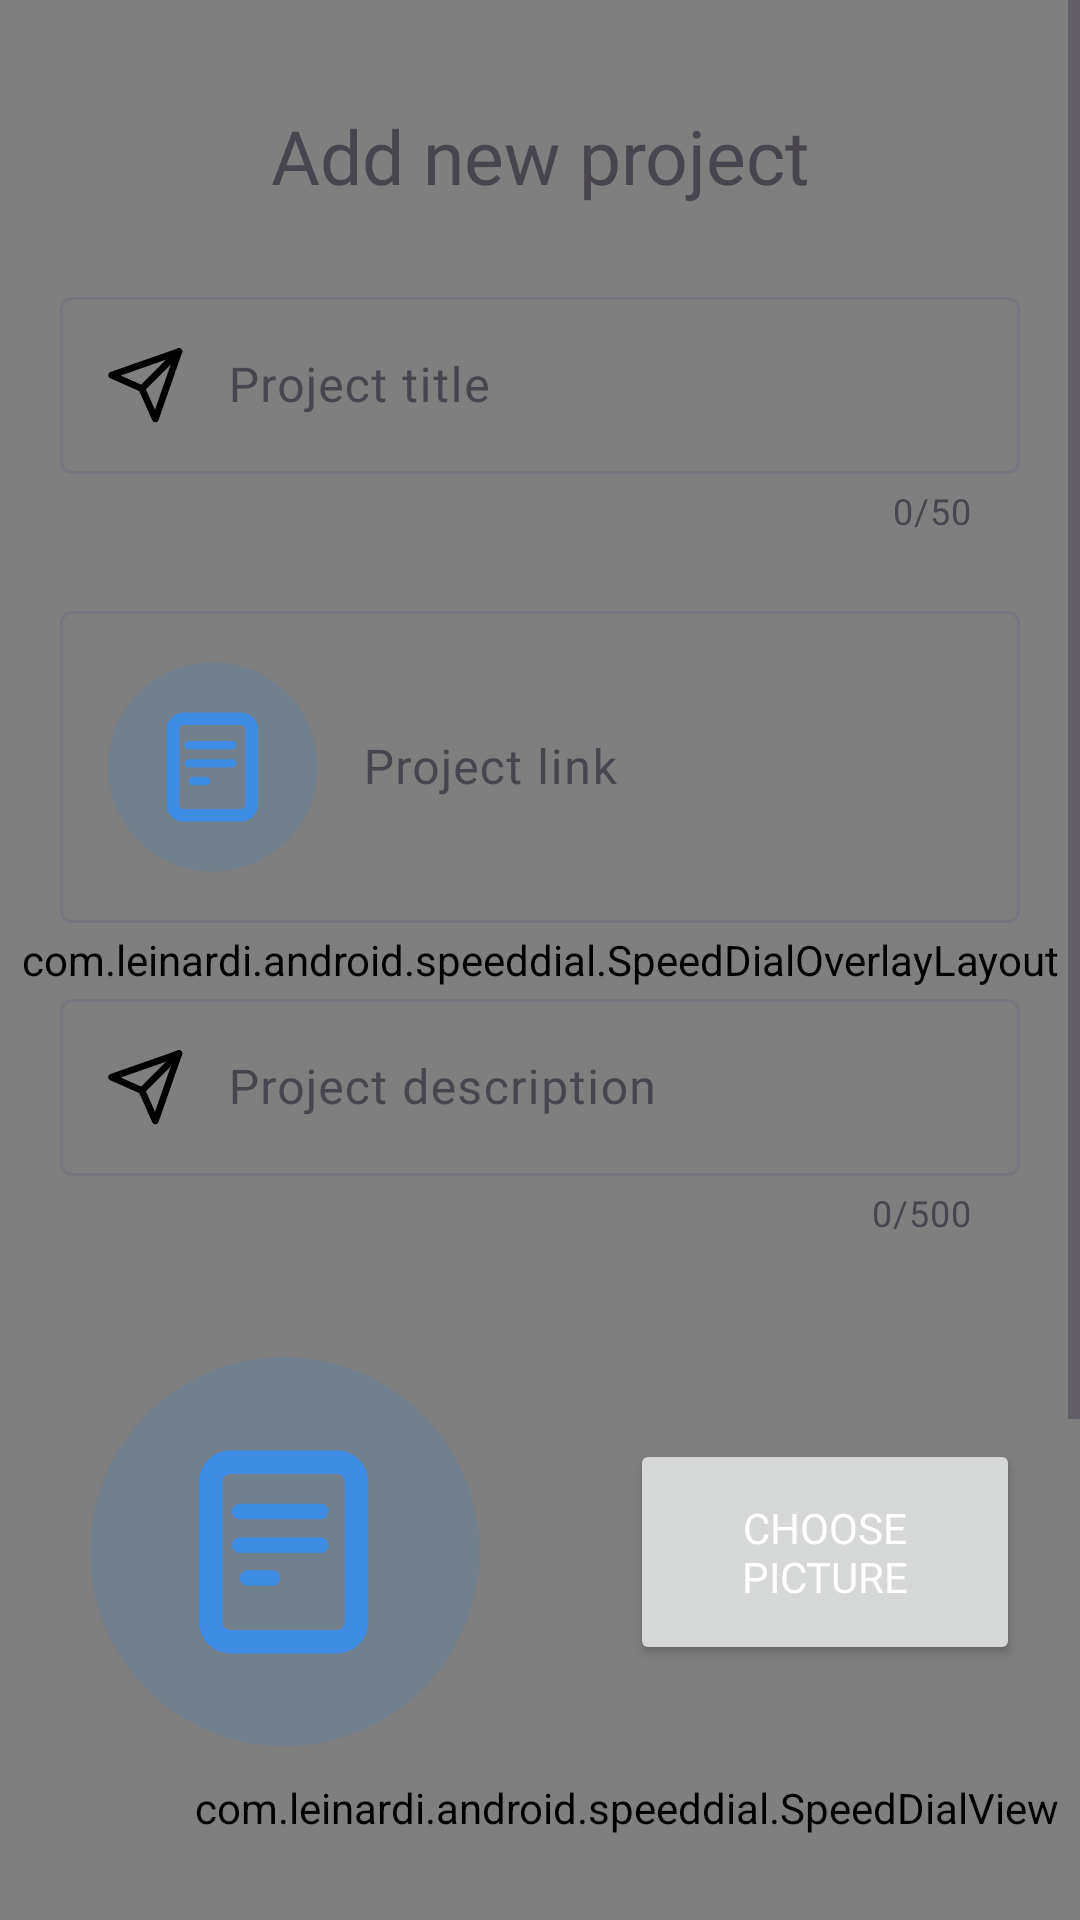

Point at icon controls on the screen. Image size 1080x1920, points as (x=x, y=y).
projects: (x=284, y=1552)
